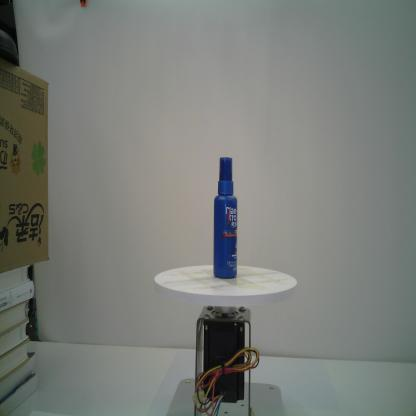Personal Hygiene: (213, 157, 238, 280)
